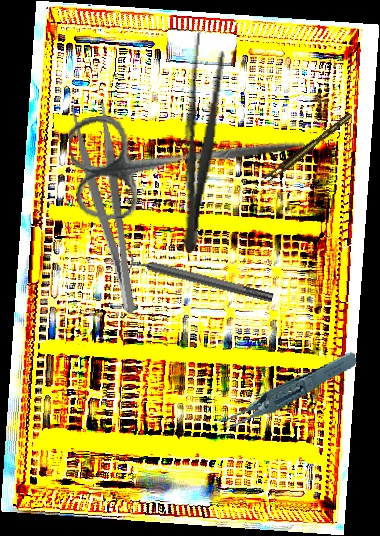Dressing Forceps: (69, 99, 141, 320), (172, 30, 227, 255)
Fixation Ring: (115, 245, 276, 312)
Iris Scissors: (65, 88, 312, 224)
Tissue Forceps: (205, 350, 365, 431), (261, 112, 356, 184)
